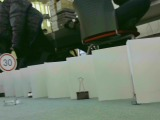speed_30: (1, 52, 18, 73)
